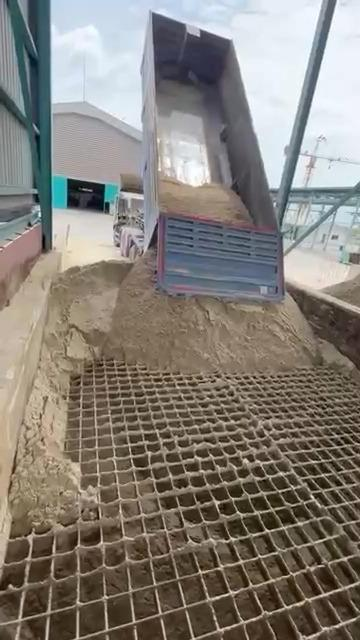sand: (11, 253, 319, 532), (160, 177, 253, 224), (319, 340, 355, 373), (325, 275, 360, 306)
